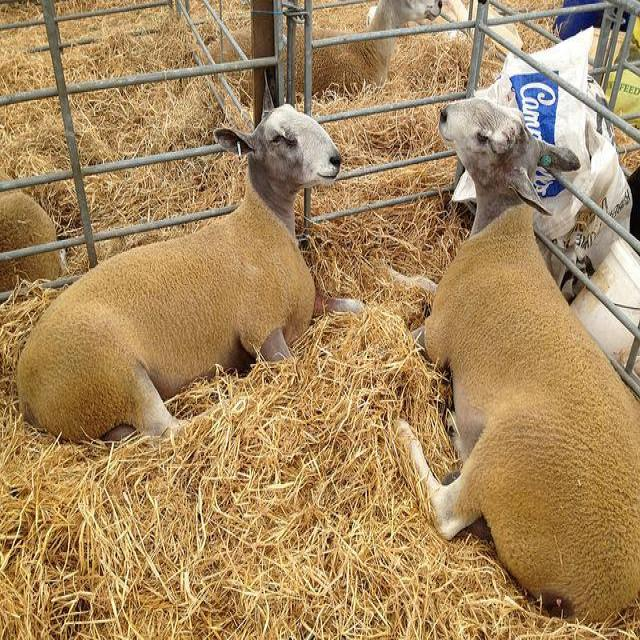Sheep: (376, 98, 639, 626), (15, 96, 338, 437), (199, 0, 444, 108), (0, 172, 62, 292)
